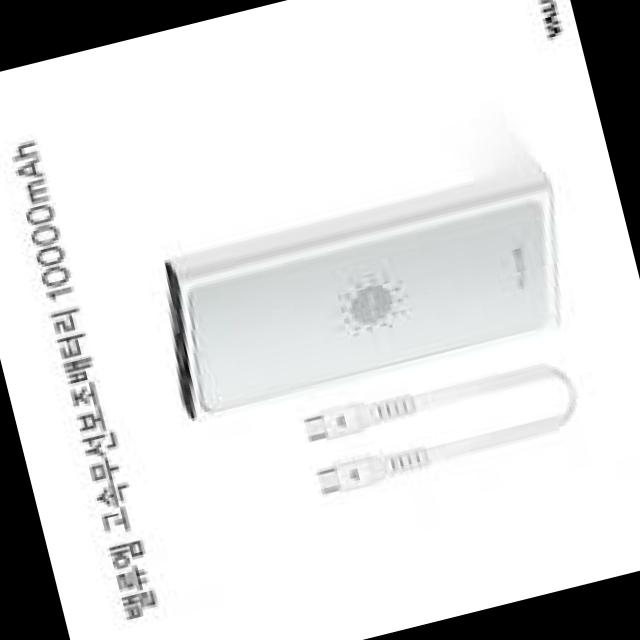power_bank: (141, 152, 589, 422)
